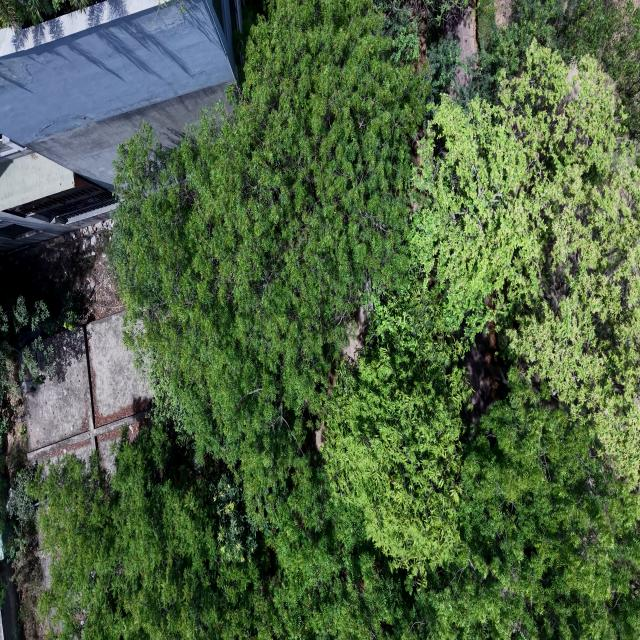ROOFTOP_BUILDING: (0, 0, 239, 189), (23, 313, 151, 473), (0, 153, 115, 250), (0, 153, 115, 223), (2, 171, 113, 223)
VEGETATION_TREE: (26, 0, 639, 639), (325, 43, 639, 568), (36, 367, 639, 639), (111, 1, 425, 516), (415, 42, 639, 484), (30, 424, 420, 639), (416, 366, 639, 639), (30, 423, 268, 639), (0, 229, 120, 639), (323, 280, 468, 571), (467, 0, 639, 137), (0, 286, 78, 437), (0, 289, 69, 433), (0, 0, 93, 27)
